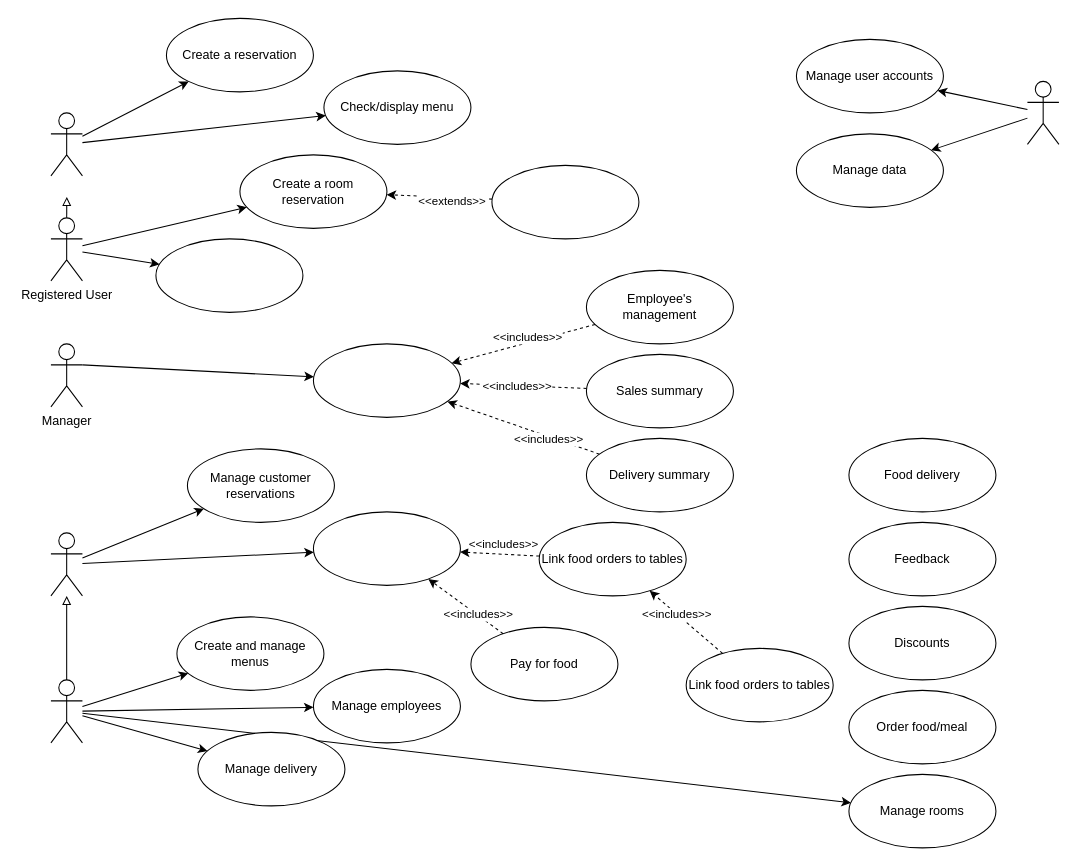
Some shapes in this 1078 by 866 pixel diagram are drawn without their labels. The centre of each missing label's shape, as x and y in pixels:
"Admin" goes at [1042,112].
"Anonymous User" goes at [66,144].
"Cash register" goes at [386,548].
"Check room availability" goes at [565,201].
"Display summaries" goes at [386,380].
"Main Chef" goes at [66,711].
"Manage reservation" goes at [229,275].
"Staff" goes at [66,564].
